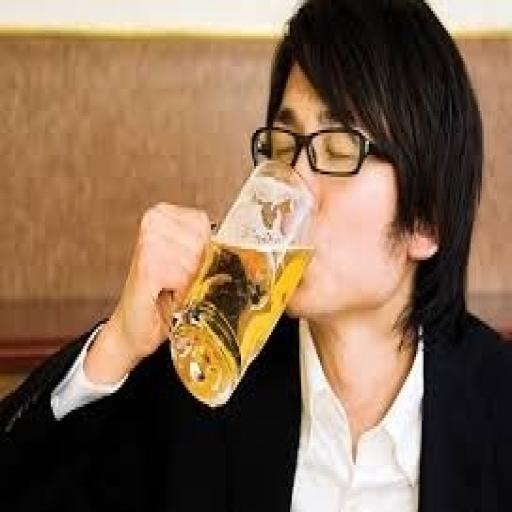drinking: (164, 158, 316, 407)
